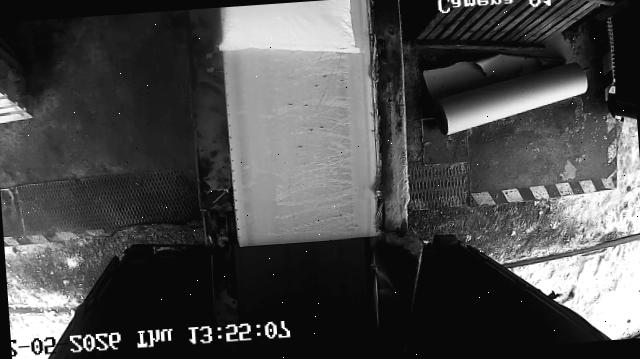bag: (216, 0, 359, 62)
